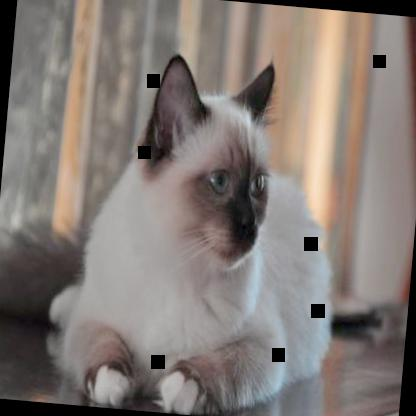cat: (39, 42, 354, 415)
